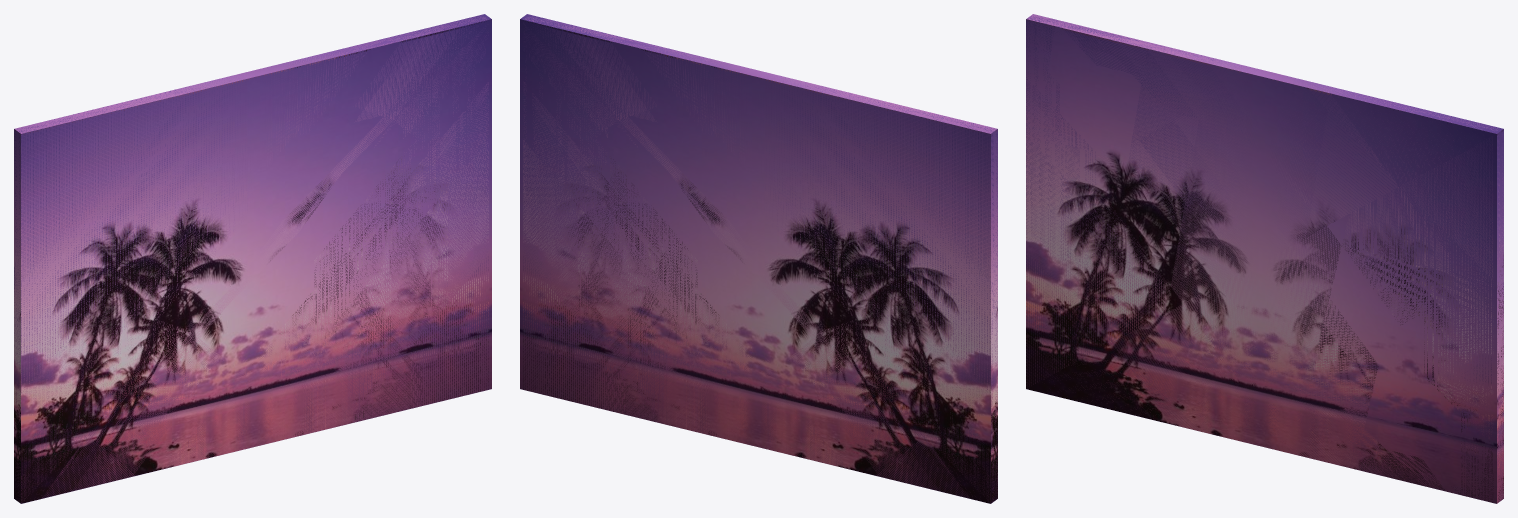
Rendered from holiday.dae.
The picture shows the model from 3 angles, left to right: view 1: azimuth 30°, elevation 25°; view 2: azimuth 150°, elevation 25°; view 3: azimuth 330°, elevation 25°; orthographic projection.
Visible parts, largest first — view 1: SketchUp; view 2: SketchUp; view 3: SketchUp.
Boxes of the visible parts, x1,y1,x2,y2 form: SketchUp: [14, 14, 491, 503]; SketchUp: [520, 14, 997, 503]; SketchUp: [1026, 14, 1503, 503].
Size of the model in its own units: 1524 by 39.37 by 1144.
Materials: 1 (1 with a texture image).
